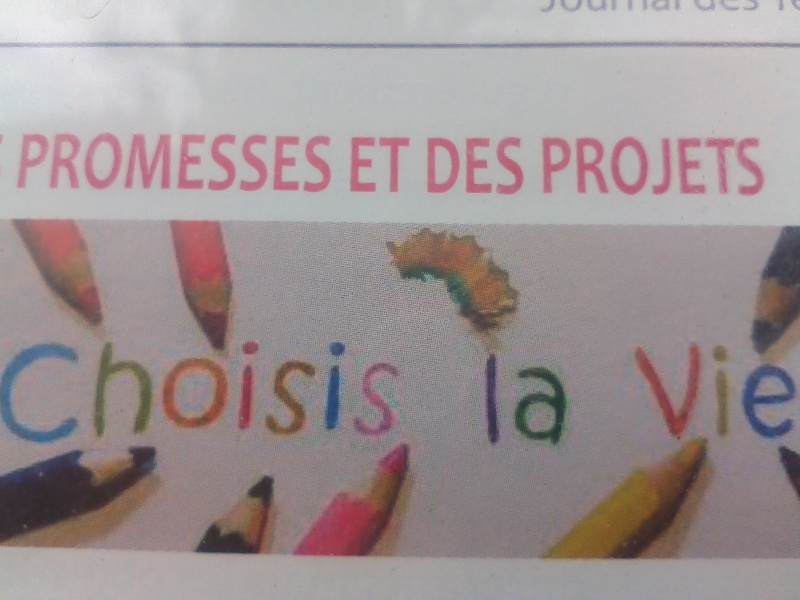text: (1, 337, 16, 446), (17, 337, 32, 446), (33, 337, 48, 446), (49, 337, 64, 446), (65, 337, 80, 446), (81, 337, 96, 446), (97, 337, 112, 446), (113, 337, 128, 446), (129, 337, 144, 446), (145, 337, 160, 446), (161, 337, 176, 446), (177, 337, 192, 446), (193, 337, 208, 446), (209, 337, 224, 446), (225, 337, 240, 446), (241, 337, 256, 446), (257, 337, 272, 446), (273, 337, 288, 446), (289, 337, 304, 446), (305, 337, 320, 446), (321, 337, 336, 446), (337, 337, 352, 446), (353, 337, 368, 446), (369, 337, 384, 446), (385, 337, 400, 446), (641, 340, 656, 441), (657, 340, 672, 441), (673, 340, 688, 441), (689, 340, 704, 441), (705, 340, 720, 441), (721, 340, 736, 441), (737, 340, 752, 441), (753, 340, 768, 441), (769, 340, 784, 441), (497, 352, 512, 449), (513, 352, 528, 449), (529, 352, 544, 449), (545, 352, 560, 449), (626, 340, 640, 441), (482, 352, 496, 449), (785, 340, 797, 441), (33, 133, 48, 194), (49, 133, 64, 194), (65, 133, 80, 194), (81, 133, 96, 194), (97, 133, 112, 194), (113, 133, 128, 194), (129, 133, 144, 194), (145, 133, 160, 194), (161, 133, 176, 194), (177, 133, 192, 194), (193, 133, 208, 194), (209, 133, 224, 194), (225, 133, 240, 194), (241, 133, 256, 194), (257, 133, 272, 194), (273, 133, 288, 194), (289, 133, 304, 194), (305, 133, 320, 194), (353, 134, 368, 195), (369, 134, 384, 195), (385, 134, 400, 195), (433, 136, 448, 197), (449, 136, 464, 197), (465, 136, 480, 197), (481, 136, 496, 197), (497, 136, 512, 197), (545, 137, 560, 196), (561, 137, 576, 196), (577, 137, 592, 196), (593, 137, 608, 196), (609, 137, 624, 196), (625, 137, 640, 196), (641, 137, 656, 196), (657, 137, 672, 196), (673, 137, 688, 196), (689, 137, 704, 196), (705, 137, 720, 196), (721, 137, 736, 196), (737, 137, 752, 196), (561, 352, 570, 449), (753, 137, 767, 196), (321, 133, 334, 194), (513, 136, 526, 197), (401, 134, 412, 195), (401, 337, 407, 446), (24, 133, 32, 194), (426, 136, 432, 197), (540, 137, 544, 196), (545, 1, 560, 15), (561, 1, 576, 15), (577, 1, 592, 15), (593, 1, 608, 15), (609, 1, 624, 15), (625, 1, 640, 15), (641, 1, 656, 15), (657, 1, 672, 15), (673, 1, 688, 15), (689, 1, 704, 15), (705, 1, 720, 15), (721, 1, 736, 15), (737, 1, 752, 15), (753, 1, 768, 15), (769, 1, 784, 15), (785, 1, 799, 15), (349, 134, 352, 195), (537, 1, 544, 15)
